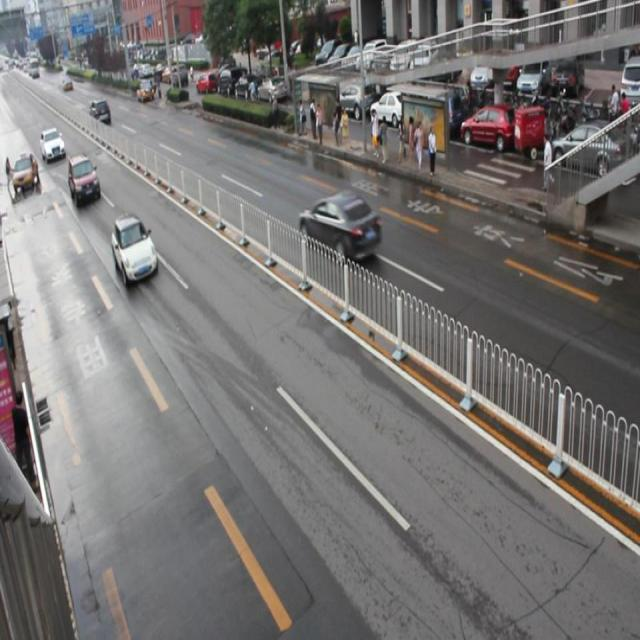car: (298, 186, 382, 256), (110, 213, 158, 286), (67, 152, 100, 205)
